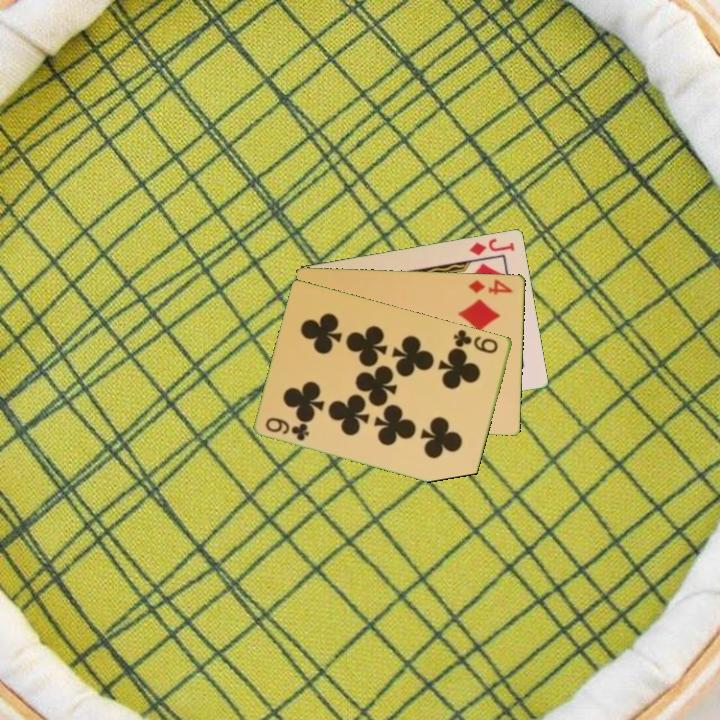4d: (465, 276, 516, 297)
9c: (450, 326, 501, 356), (262, 414, 312, 444)
Jd: (466, 234, 518, 258)
